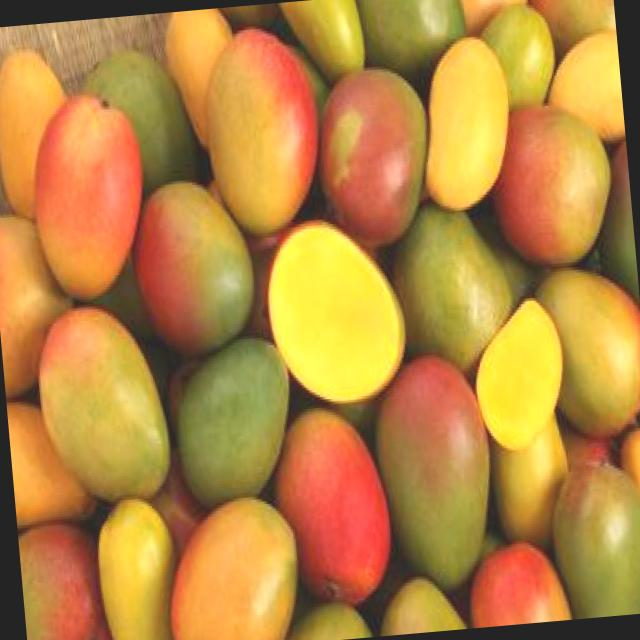mango: (370, 350, 499, 578), (32, 296, 174, 496), (22, 88, 151, 295), (269, 400, 398, 599), (193, 17, 317, 217), (159, 493, 316, 640), (312, 62, 434, 248), (486, 101, 616, 268), (135, 167, 257, 342), (170, 338, 301, 491)
